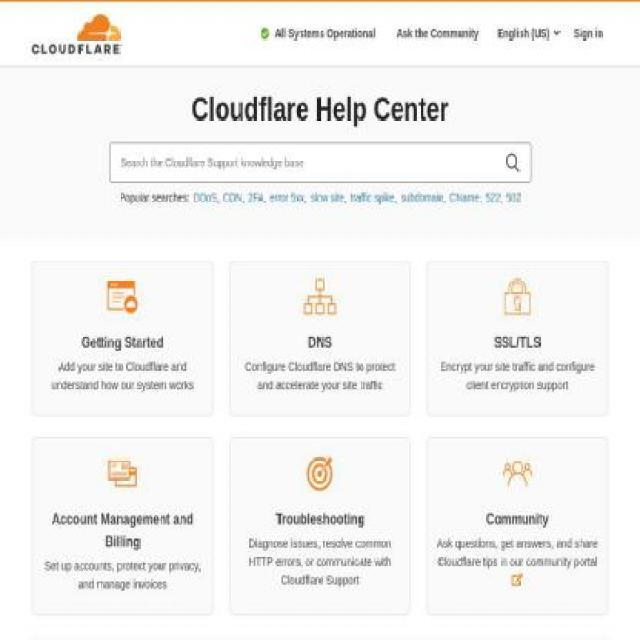button: (32, 438, 214, 614), (426, 438, 608, 610), (230, 438, 410, 610), (32, 262, 214, 416), (426, 262, 608, 416), (230, 262, 410, 416), (252, 2, 386, 66), (387, 2, 488, 66), (488, 1, 569, 67), (568, 2, 608, 66)
field: (110, 145, 504, 180), (504, 145, 530, 180)
